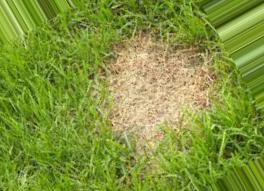patch: (117, 49, 191, 75), (112, 83, 204, 101), (123, 104, 175, 131)
